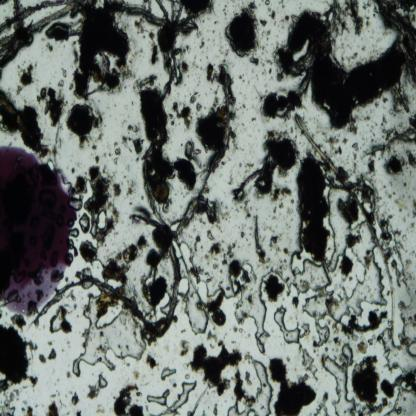Air bubble: (327, 197, 393, 318), (72, 296, 146, 379), (230, 279, 271, 352), (226, 356, 274, 416), (273, 252, 334, 295), (322, 342, 358, 414), (304, 290, 336, 350), (144, 381, 198, 415), (379, 327, 416, 373), (271, 43, 304, 81), (186, 282, 209, 336), (275, 305, 303, 345), (93, 304, 122, 328), (50, 305, 65, 334), (80, 211, 92, 234), (0, 398, 15, 416), (161, 366, 176, 382), (98, 209, 108, 231), (68, 198, 83, 212), (97, 374, 108, 390)
Background material: (308, 37, 404, 131), (68, 0, 137, 98), (296, 147, 333, 264), (0, 86, 50, 156), (373, 0, 416, 81), (254, 128, 300, 198), (268, 358, 317, 416), (191, 342, 243, 394), (0, 322, 37, 392), (350, 351, 389, 416), (221, 0, 263, 59), (365, 114, 416, 157), (136, 88, 170, 146), (158, 25, 190, 86), (67, 100, 105, 144), (196, 104, 227, 156), (84, 165, 116, 215), (260, 88, 306, 122), (341, 308, 389, 337), (146, 146, 178, 188), (44, 74, 66, 126), (102, 255, 130, 295), (232, 366, 258, 409), (147, 226, 171, 270), (380, 369, 416, 398), (253, 213, 272, 265), (202, 290, 228, 328), (114, 382, 143, 416), (356, 176, 381, 214), (208, 236, 237, 266), (174, 157, 198, 193), (342, 0, 364, 37), (229, 259, 252, 294), (337, 194, 360, 228), (299, 344, 319, 382), (121, 233, 147, 262), (129, 205, 161, 228), (15, 61, 36, 96), (378, 216, 396, 256), (96, 214, 118, 246), (183, 0, 218, 20), (392, 83, 412, 116), (172, 100, 194, 130), (96, 291, 118, 320), (214, 196, 232, 230), (386, 152, 408, 177), (188, 255, 204, 283), (355, 333, 377, 353), (80, 239, 98, 263), (182, 20, 203, 40), (148, 25, 158, 66), (314, 391, 330, 416), (326, 133, 342, 158), (271, 234, 290, 255), (390, 258, 403, 288), (204, 62, 221, 84), (380, 114, 394, 140), (341, 254, 354, 281), (132, 75, 157, 89), (345, 232, 363, 250), (10, 312, 26, 332), (209, 84, 220, 113), (107, 200, 120, 223), (145, 352, 161, 370), (72, 176, 88, 194), (242, 196, 253, 221), (352, 139, 360, 173), (45, 398, 60, 416), (396, 229, 407, 252), (252, 82, 266, 100), (271, 181, 282, 203), (405, 148, 416, 170), (348, 112, 358, 136), (230, 129, 240, 153), (67, 389, 81, 406), (25, 373, 41, 387), (179, 338, 190, 358), (404, 312, 416, 330), (133, 136, 145, 154), (9, 388, 23, 402), (86, 384, 99, 399), (112, 147, 122, 166), (339, 353, 349, 372), (127, 123, 141, 136), (366, 158, 376, 176), (282, 183, 294, 198), (364, 249, 373, 268), (112, 181, 122, 198), (192, 56, 204, 70), (399, 332, 410, 347), (248, 286, 256, 306), (71, 45, 79, 65), (82, 328, 90, 348), (47, 347, 58, 361), (126, 180, 136, 195), (260, 46, 266, 70), (206, 330, 218, 342), (268, 7, 276, 25), (193, 235, 201, 252), (95, 402, 106, 414), (94, 344, 106, 355), (121, 136, 132, 148), (410, 197, 416, 218), (166, 112, 175, 126), (346, 51, 357, 62), (206, 228, 216, 240), (57, 77, 65, 92), (190, 91, 199, 104), (245, 370, 252, 386), (60, 66, 68, 80), (292, 295, 300, 309), (227, 170, 234, 186), (280, 14, 290, 25), (361, 0, 372, 10), (250, 55, 260, 66), (262, 30, 272, 41), (244, 161, 256, 170), (370, 124, 376, 142), (364, 14, 370, 31), (312, 337, 318, 354), (238, 312, 248, 322), (362, 112, 373, 121), (26, 404, 34, 416), (38, 352, 46, 364), (230, 110, 238, 122), (45, 40, 53, 52), (258, 18, 268, 27), (332, 337, 342, 346), (232, 326, 243, 334), (383, 348, 391, 359), (333, 320, 339, 334), (222, 4, 228, 18), (198, 39, 206, 49), (122, 360, 132, 368), (382, 30, 393, 37), (133, 370, 140, 381), (213, 401, 218, 416), (90, 141, 98, 150), (239, 102, 247, 111), (94, 154, 100, 165), (278, 202, 286, 210), (194, 147, 202, 155), (285, 207, 294, 214), (278, 0, 285, 9), (373, 5, 378, 17), (204, 253, 210, 263), (224, 48, 230, 58), (206, 276, 214, 283), (74, 409, 82, 416), (219, 161, 226, 169), (197, 101, 202, 112), (239, 74, 245, 83), (239, 230, 246, 237), (395, 407, 402, 414), (316, 141, 322, 149), (342, 137, 348, 145), (374, 100, 380, 108), (266, 59, 274, 65), (68, 82, 74, 90), (66, 370, 71, 379), (184, 374, 191, 380), (381, 97, 388, 103), (99, 330, 104, 338), (268, 68, 273, 76), (47, 340, 53, 346), (201, 409, 206, 416), (324, 346, 329, 353), (70, 168, 77, 173), (272, 206, 276, 214), (290, 126, 294, 134), (265, 0, 270, 6), (361, 44, 366, 50), (291, 198, 295, 205), (114, 142, 119, 147), (50, 394, 56, 398), (140, 195, 144, 201), (136, 157, 140, 163), (403, 182, 407, 187), (212, 29, 216, 34), (22, 408, 25, 413), (251, 118, 256, 121)
Cellulose filter fibre: (28, 213, 182, 336), (289, 4, 342, 99), (197, 74, 232, 192), (139, 137, 176, 233), (0, 3, 75, 45), (122, 1, 192, 30), (0, 0, 67, 30), (176, 194, 215, 238), (235, 158, 275, 196), (323, 0, 348, 36), (185, 141, 199, 165)
Diatom: (153, 182, 170, 204), (220, 106, 228, 116)
Fragment: (150, 277, 166, 308)
Pen: (0, 144, 75, 314)
